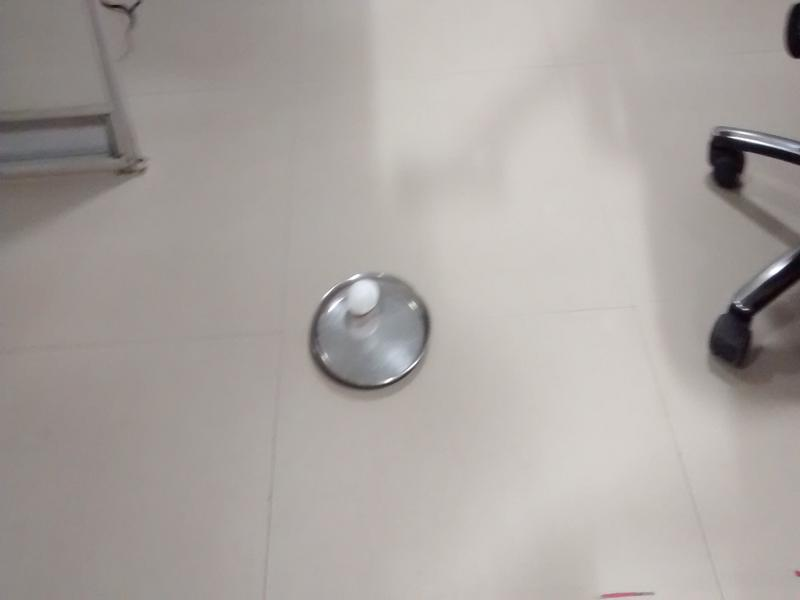egg: (344, 273, 383, 312)
